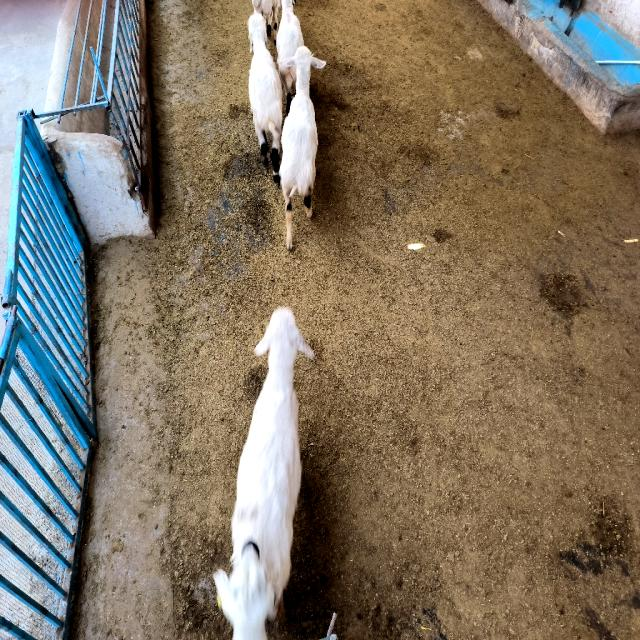sheep: (231, 308, 314, 609), (280, 47, 326, 250), (248, 13, 282, 182), (214, 543, 269, 640), (276, 0, 304, 112)
